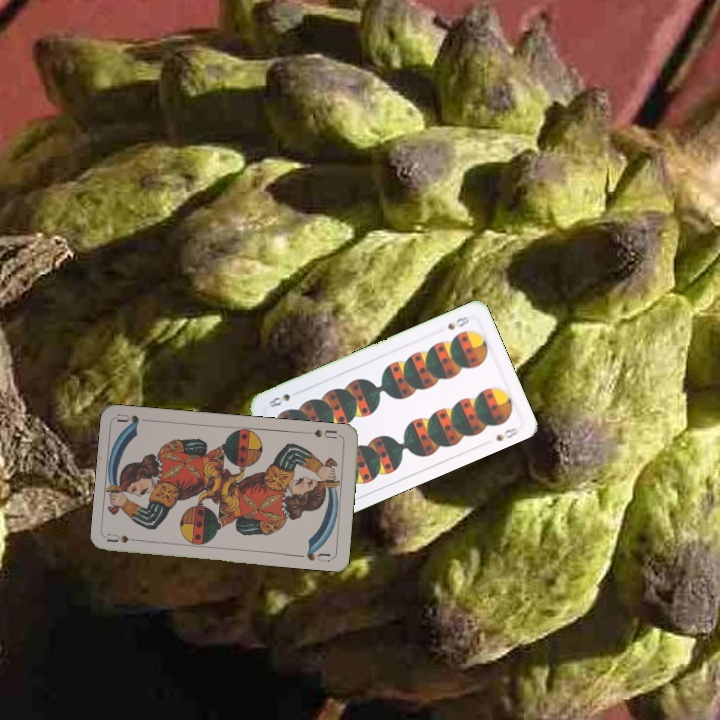S8: (444, 312, 472, 332)
SU: (104, 530, 145, 546), (303, 426, 343, 441)
